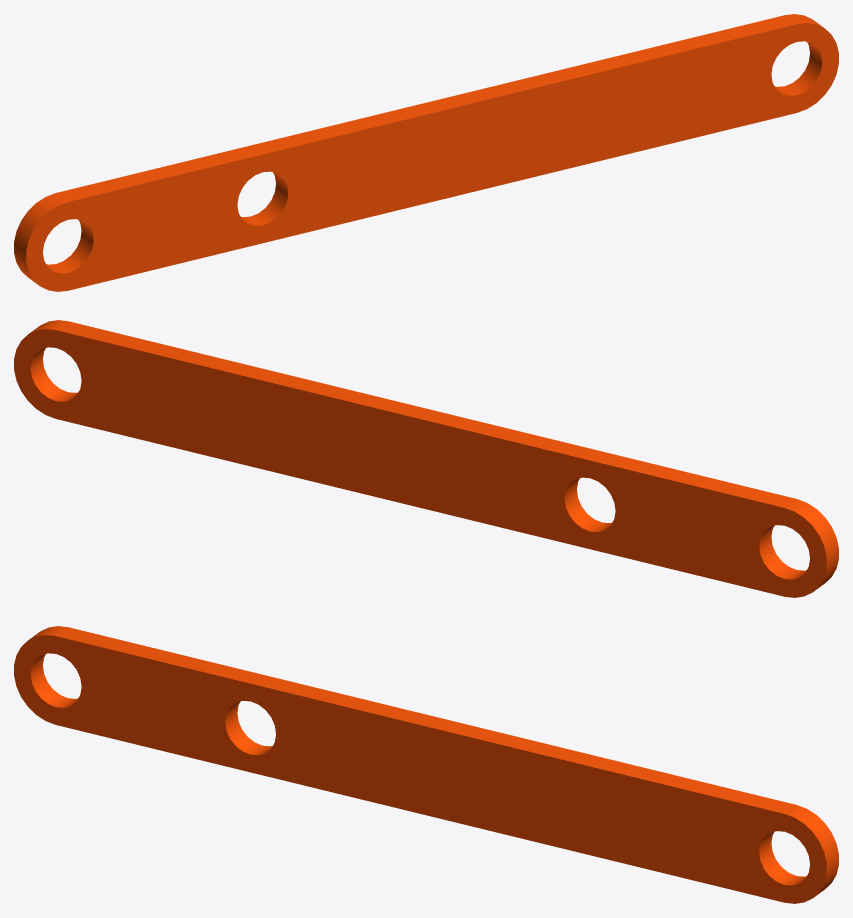
3 renders of one model, top to bottom at view 1: azimuth 30°, elevation 25°; view 2: azimuth 150°, elevation 25°; view 3: azimuth 330°, elevation 25°, orthographic.
Visible parts, largest first — view 1: link_1_1; view 2: link_1_1; view 3: link_1_1.
Boxes of the visible parts, x1,y1,x2,y2 form: link_1_1: (14, 14, 838, 291); link_1_1: (14, 320, 838, 597); link_1_1: (14, 626, 838, 903).
Bounding box in the file's own units: 575 × 15 × 60.
